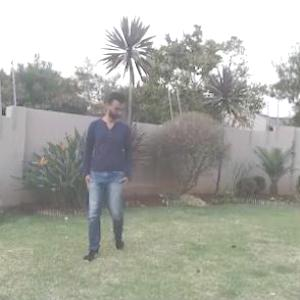follow: (76, 89, 132, 261)
